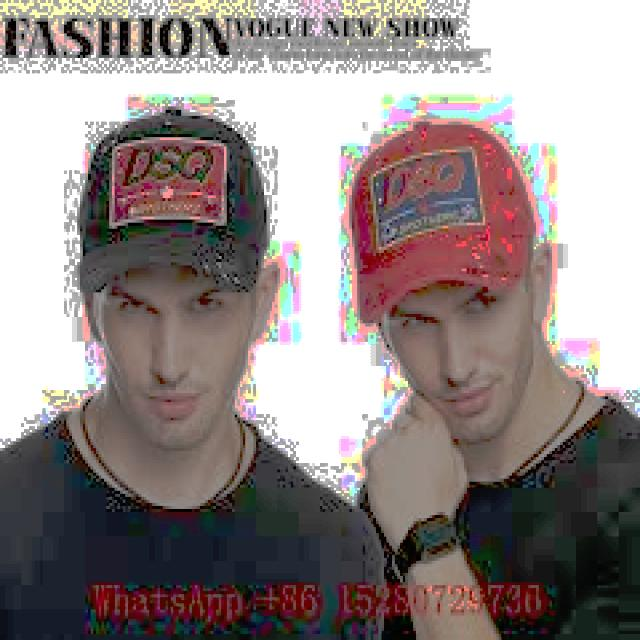TOPI: (61, 92, 278, 296), (341, 110, 536, 320)
